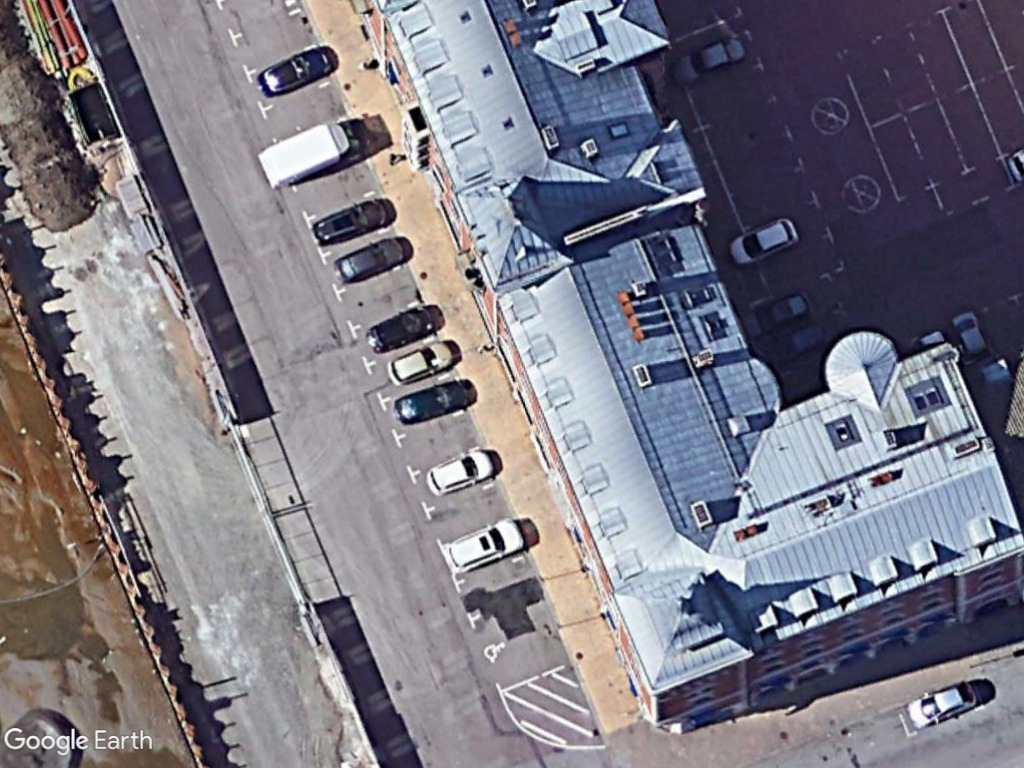car: (439, 514, 529, 575), (253, 43, 339, 100), (311, 194, 390, 253), (364, 299, 441, 359), (670, 32, 750, 88), (421, 443, 499, 500), (335, 232, 412, 289), (393, 377, 477, 428), (742, 287, 818, 343), (899, 676, 982, 727), (385, 334, 461, 389), (729, 214, 801, 269)
truck: (256, 114, 363, 193)
